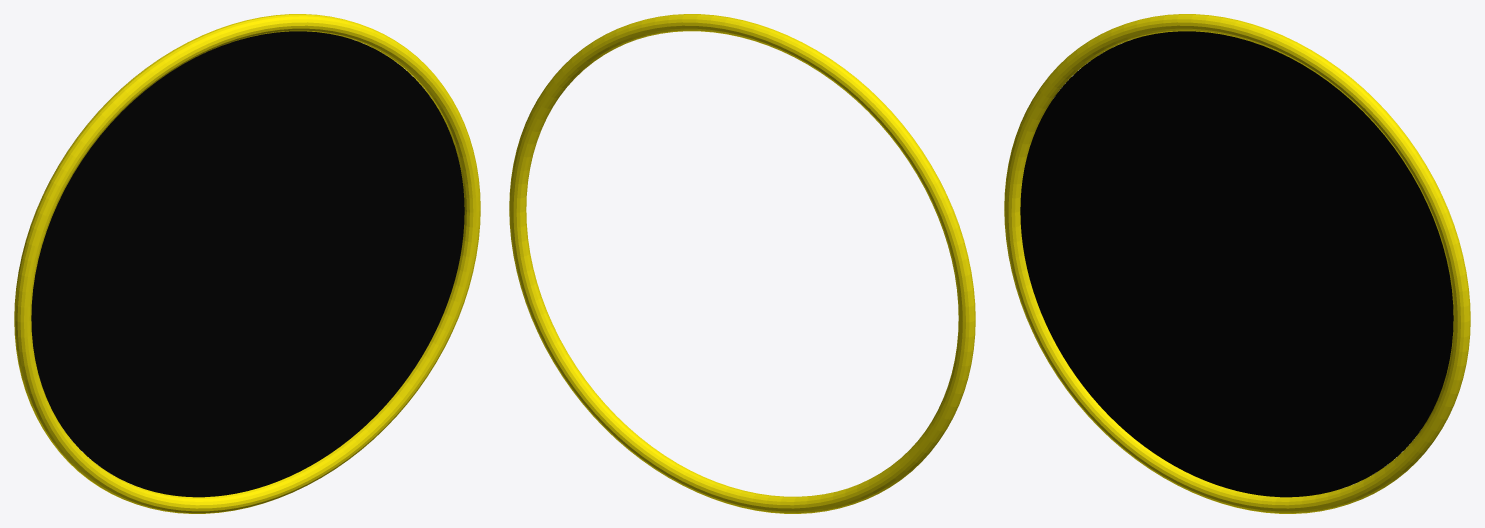
The model's file is portal.gltf.
The picture shows the model from 3 angles, left to right: view 1: azimuth 30°, elevation 25°; view 2: azimuth 150°, elevation 25°; view 3: azimuth 330°, elevation 25°; orthographic projection.
Visible parts, largest first — view 1: Node; view 2: Node; view 3: Node.
Boxes of the visible parts, x1,y1,x2,y2 form: Node: (14, 14, 480, 513); Node: (509, 14, 975, 513); Node: (1004, 14, 1470, 513).
Size of the model in its own units: 6.2 by 6.2 by 0.2.
